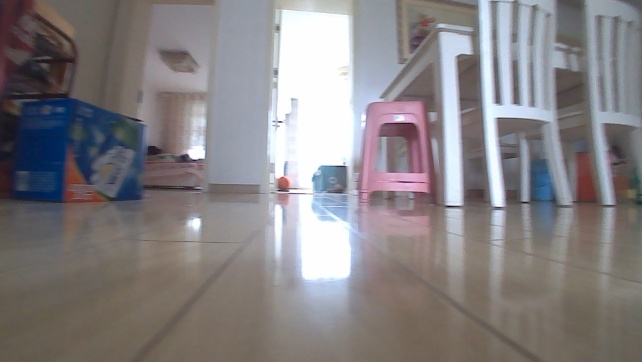bed1: (143, 157, 205, 190)
dining_table: (350, 0, 641, 210)
